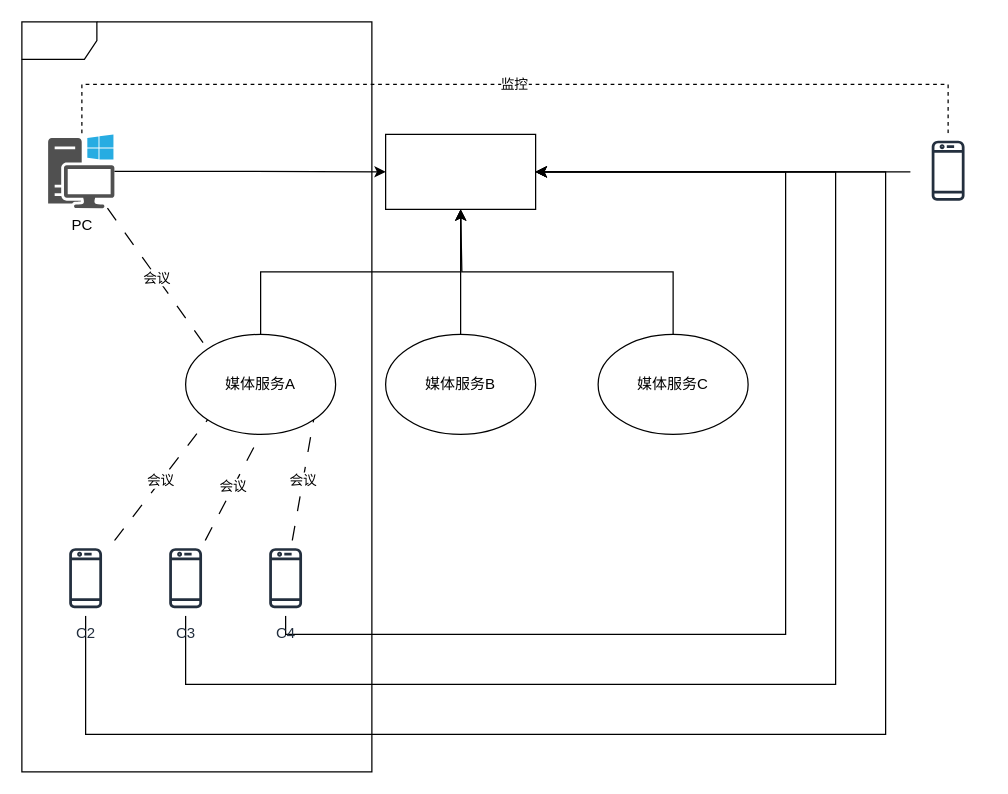
Image size: 1008x794. Some labels were removed from this diagram. The centre of each missing label's shape, as x and y in pixels:
"C1" belongs at [947,170].
"信令服务" belongs at [460,171].
"相同会议" belongs at [196,396].
